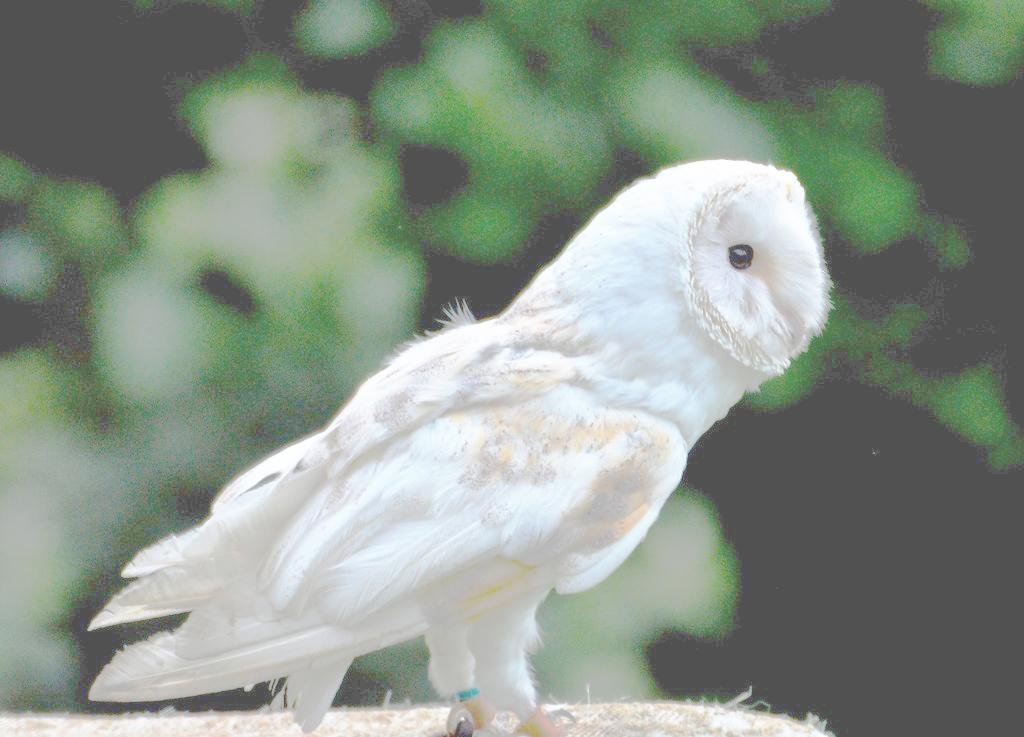Owl: (90, 158, 834, 736)
